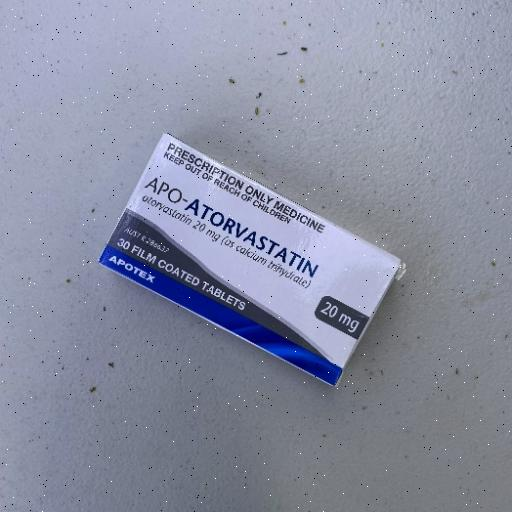Cardboard: (96, 131, 406, 389)
